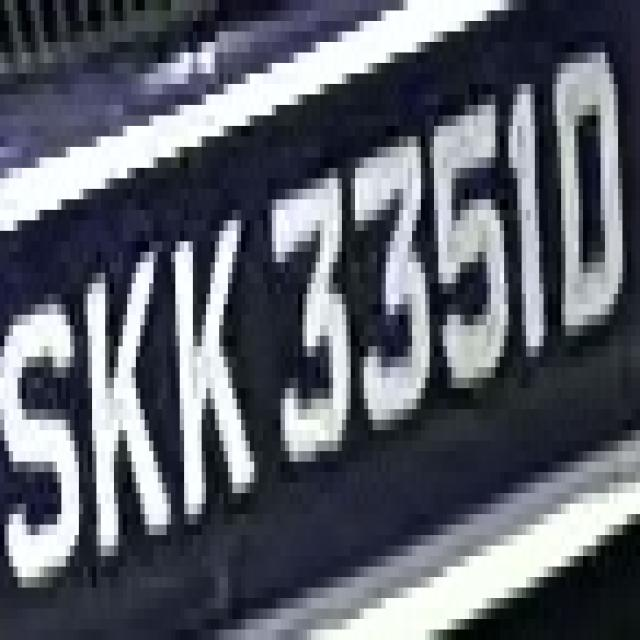1: (504, 74, 557, 409)
3: (338, 84, 430, 441), (263, 147, 346, 514)
5: (416, 74, 508, 430)
D: (548, 21, 622, 346)
K: (75, 252, 166, 598), (158, 200, 254, 524)
S: (0, 294, 79, 588)
